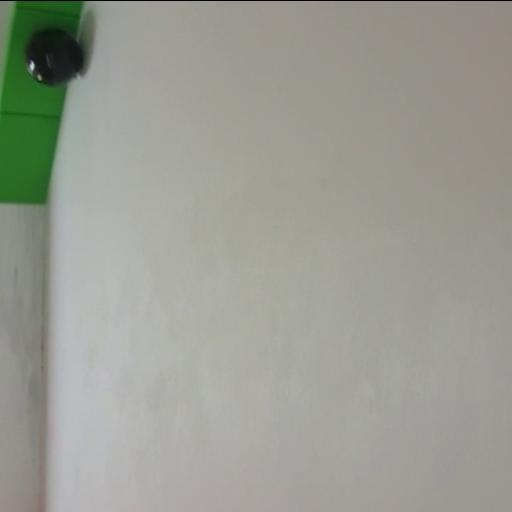dead: (23, 26, 84, 88)
